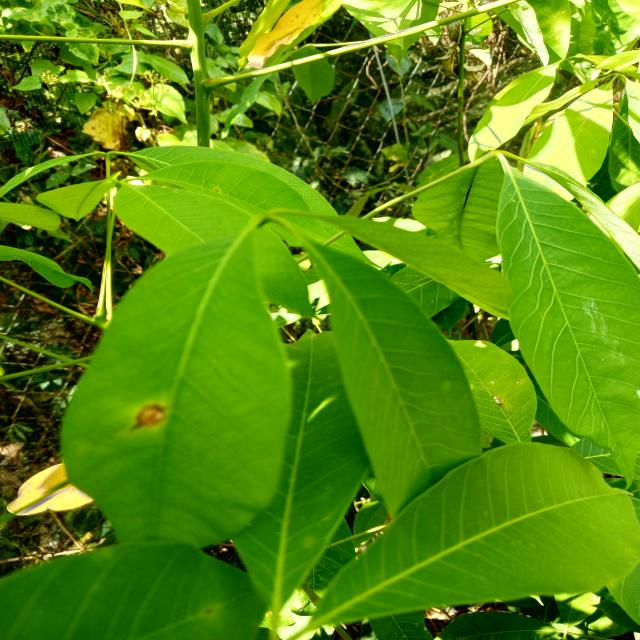Colletotrichum: (490, 381, 494, 384), (515, 382, 520, 384), (506, 408, 509, 410), (524, 433, 527, 435), (216, 189, 218, 192)
Leaf-Blight: (493, 396, 500, 404)
